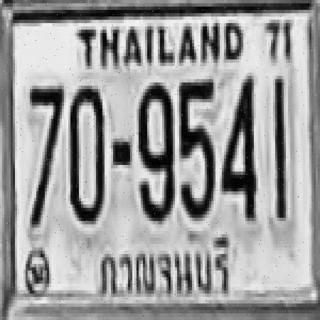N00: (68, 82, 102, 221)
N01: (273, 76, 284, 218)
N04: (220, 73, 254, 218)
N05: (177, 78, 213, 216)
N07: (28, 82, 62, 224)
N09: (137, 79, 173, 218)
P17: (92, 236, 236, 306)
